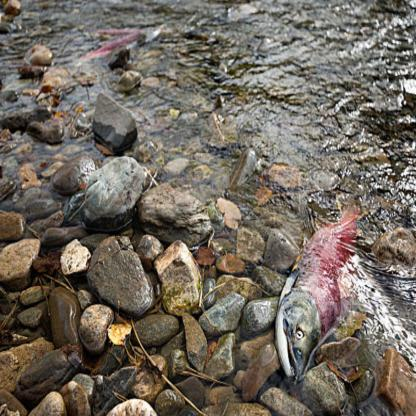sockeye: (275, 207, 362, 382)
